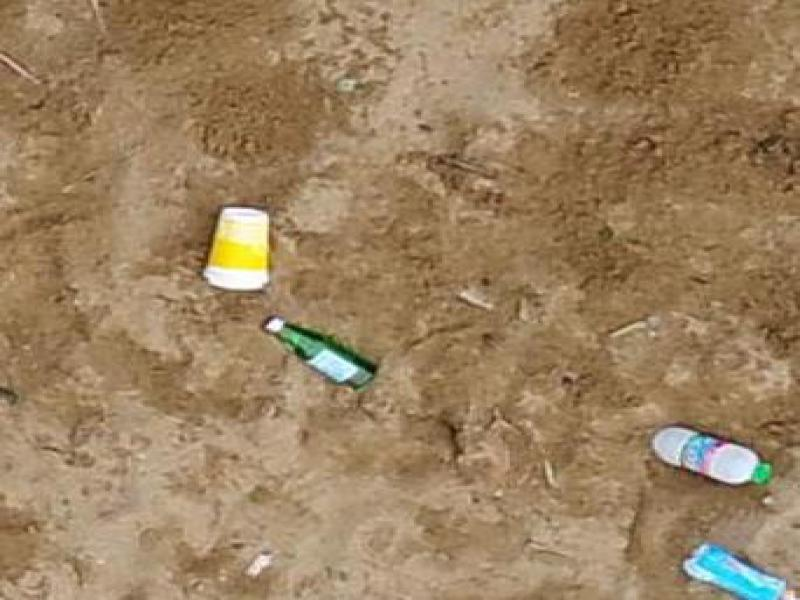bottle: (640, 412, 792, 504), (253, 300, 394, 396), (198, 206, 284, 296), (675, 534, 780, 596)
